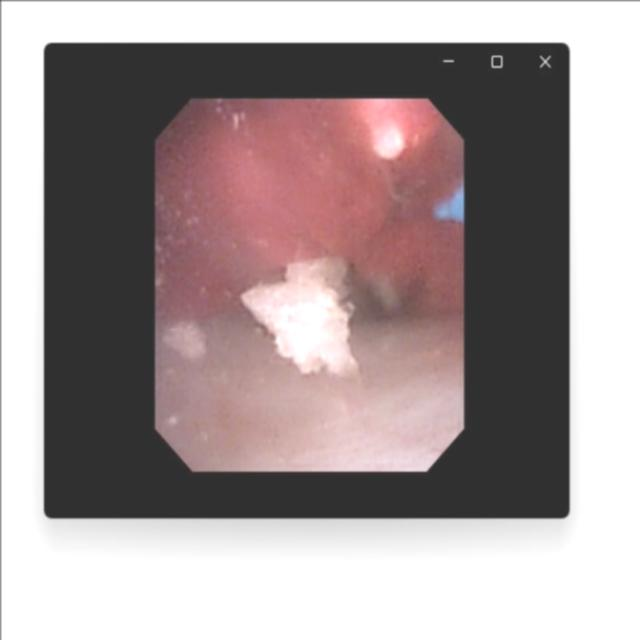fiber: (435, 190, 459, 220)
stone: (240, 251, 356, 370), (164, 322, 205, 358)
